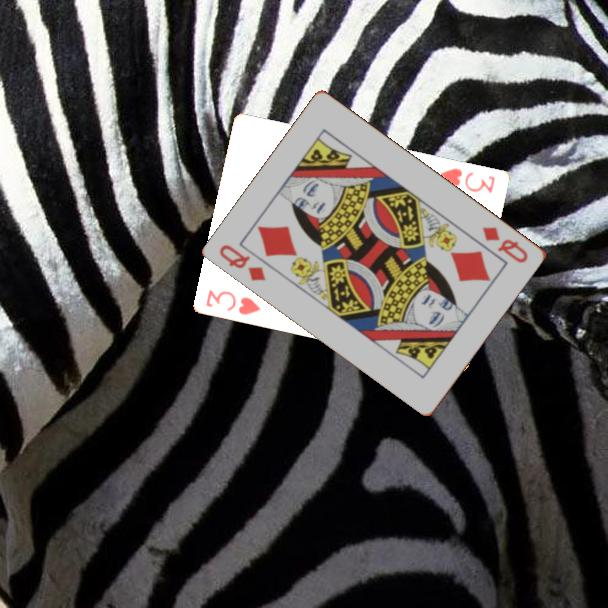d12: (216, 241, 269, 284), (479, 223, 531, 266)
h03: (437, 164, 498, 196), (203, 286, 264, 318)
